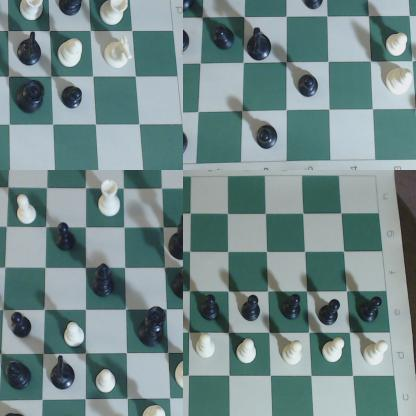black-bishop: (4, 361, 36, 392), (94, 264, 116, 297), (58, 1, 87, 19), (184, 24, 197, 59)
black-king: (168, 207, 183, 261)
black-knight: (246, 27, 275, 63), (50, 355, 78, 392), (17, 31, 43, 67)
black-pawn: (361, 291, 385, 327), (316, 296, 341, 330), (209, 24, 236, 53), (56, 222, 79, 256), (255, 126, 283, 153), (280, 291, 304, 322), (198, 294, 222, 324), (11, 312, 35, 339), (296, 73, 319, 101), (242, 292, 261, 324), (61, 87, 85, 111), (299, 1, 329, 13)
black-queen: (139, 306, 169, 349), (18, 80, 47, 115), (171, 256, 183, 302)
black-rook: (184, 126, 193, 161)
white-bishop: (377, 68, 416, 100), (57, 39, 84, 69)
white-king: (174, 351, 183, 397)
white-knight: (104, 36, 135, 73)
white-pawn: (358, 333, 391, 372), (236, 338, 265, 375), (194, 333, 221, 370), (285, 340, 309, 376), (323, 335, 347, 371), (383, 32, 411, 62), (17, 192, 39, 227), (63, 319, 86, 352), (94, 367, 118, 398), (140, 401, 170, 416)
white-rook: (99, 180, 123, 217), (99, 1, 131, 27), (18, 1, 47, 23)
